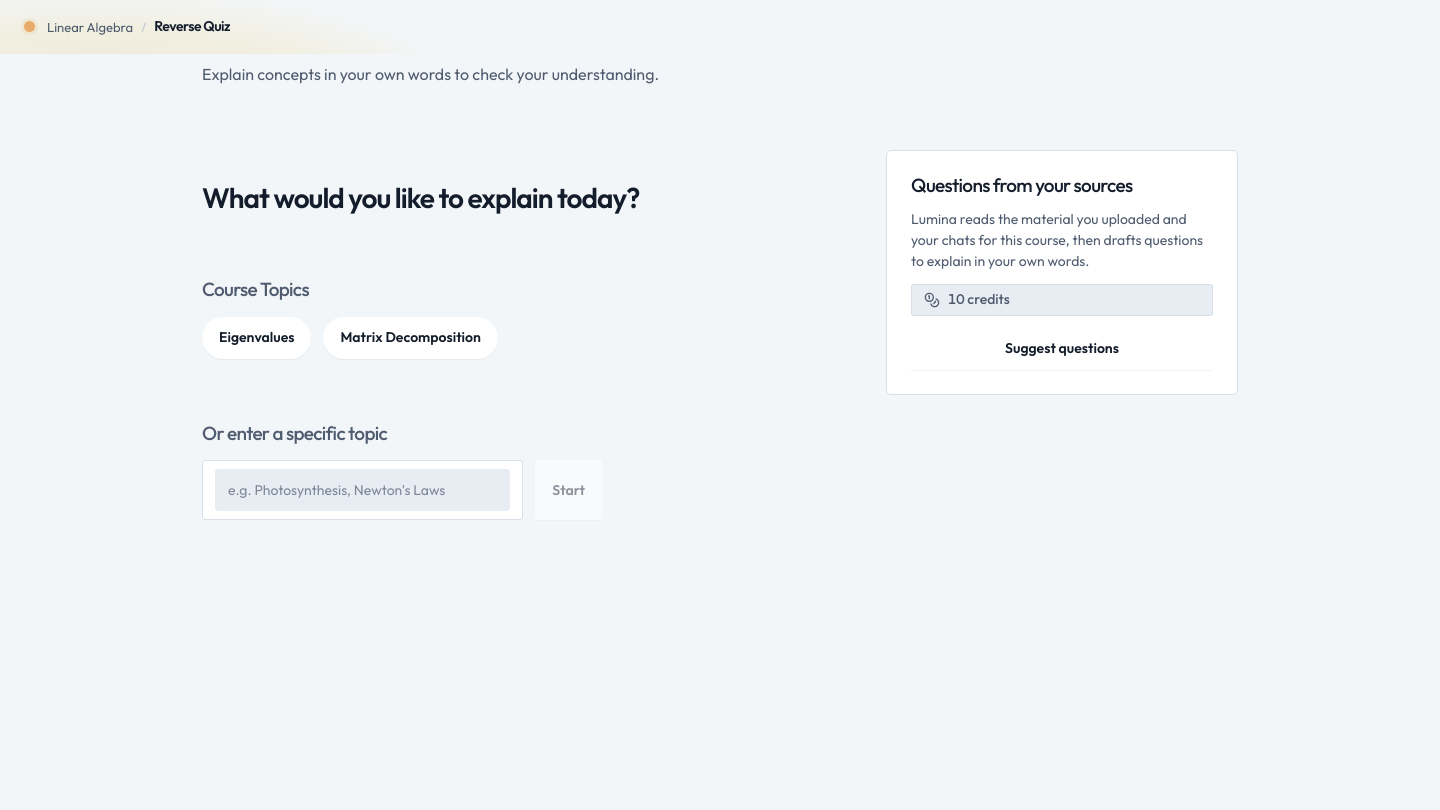
Scenario: ReverseQuizPage › starts a reverse quiz session with custom topic input
Type "Singular Value Decomposition" into the field with placeholder "e.g. Photosynthesis, Newton's Laws".
click(363, 490); type("Singular Value Decomposition")  # box top-left (215, 469), bottom-right (510, 511)
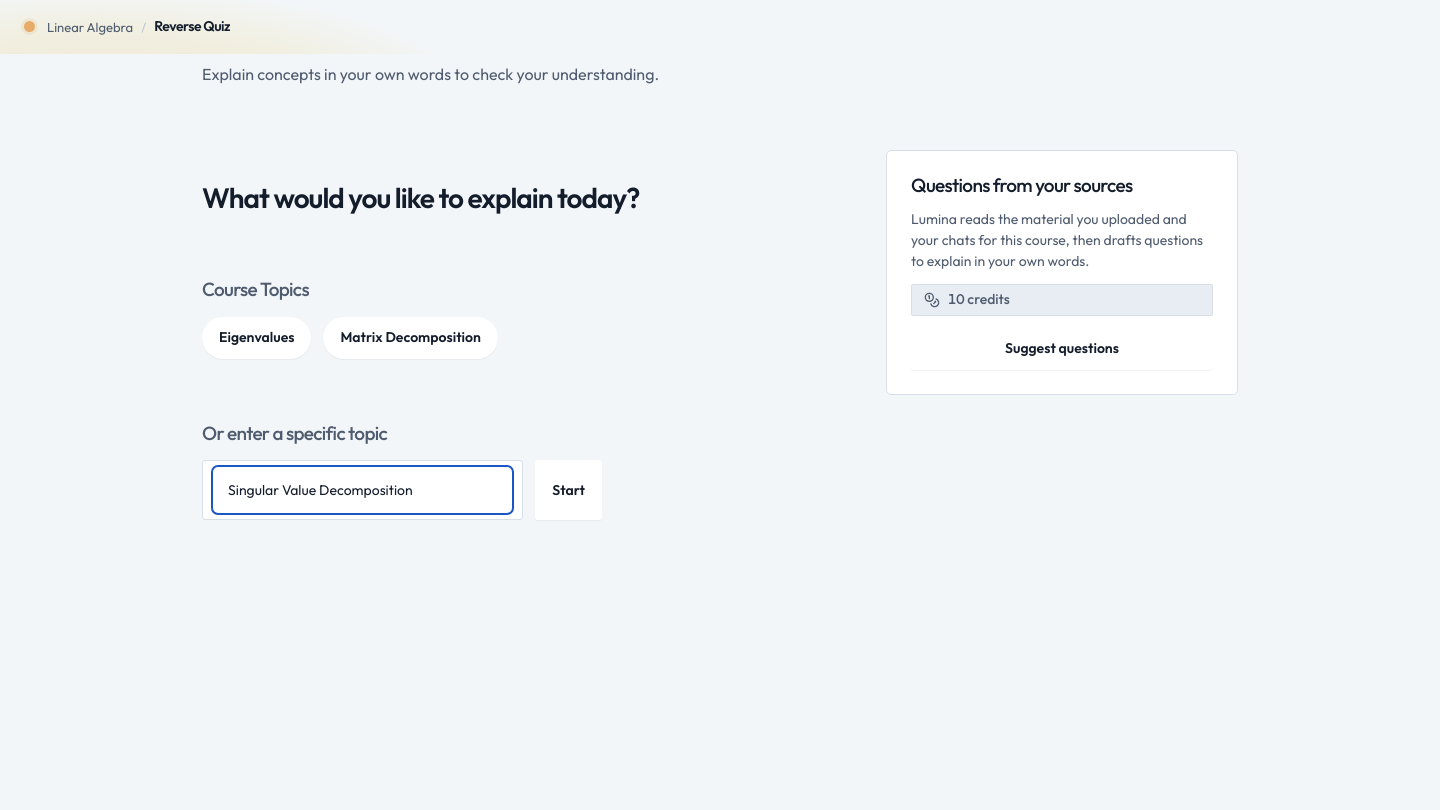
Click the button "Start".
click(569, 490)  # box top-left (535, 460), bottom-right (602, 520)
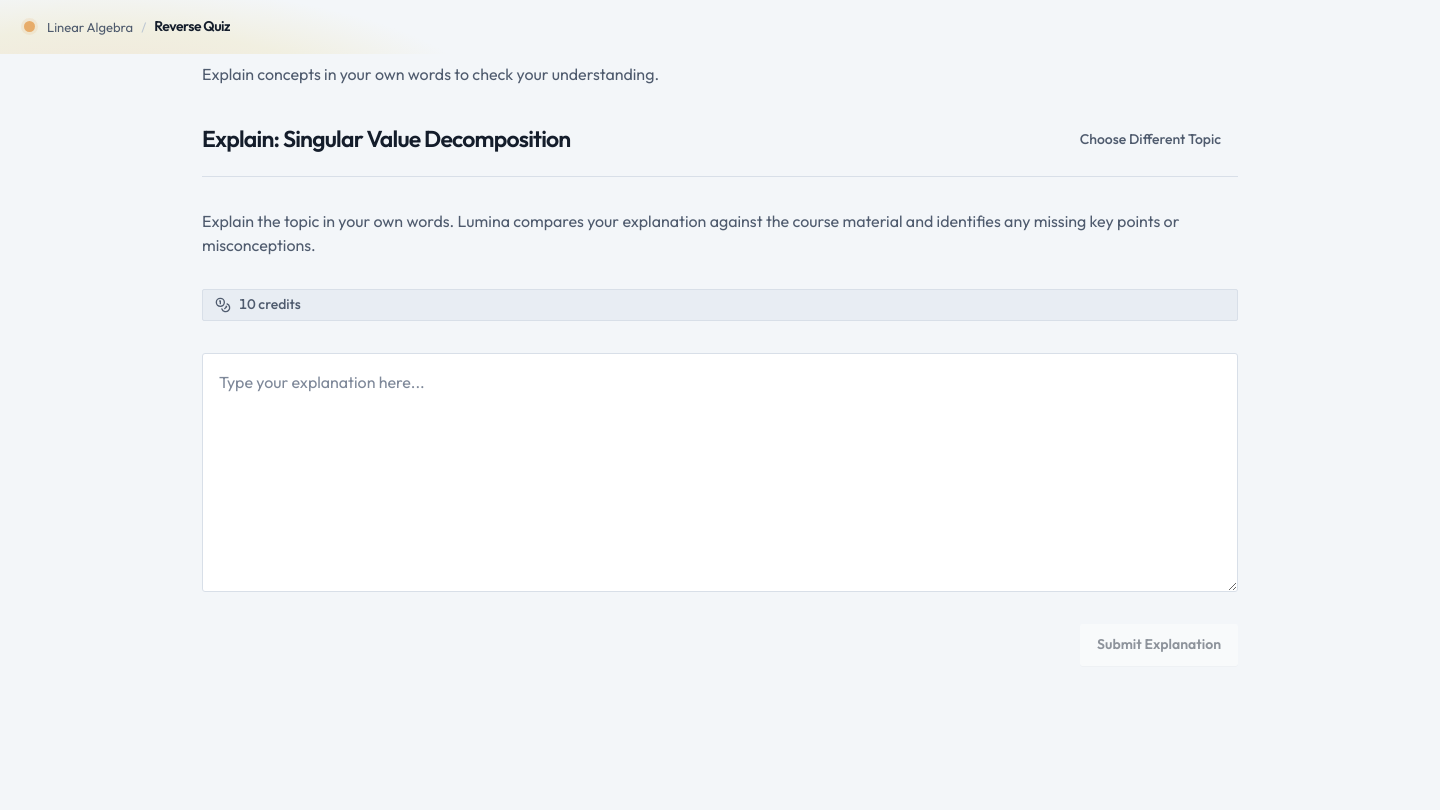
Expected: the heading "Explain: Singular Value Decomposition" is shown, top-left (202, 126), bottom-right (570, 153)
